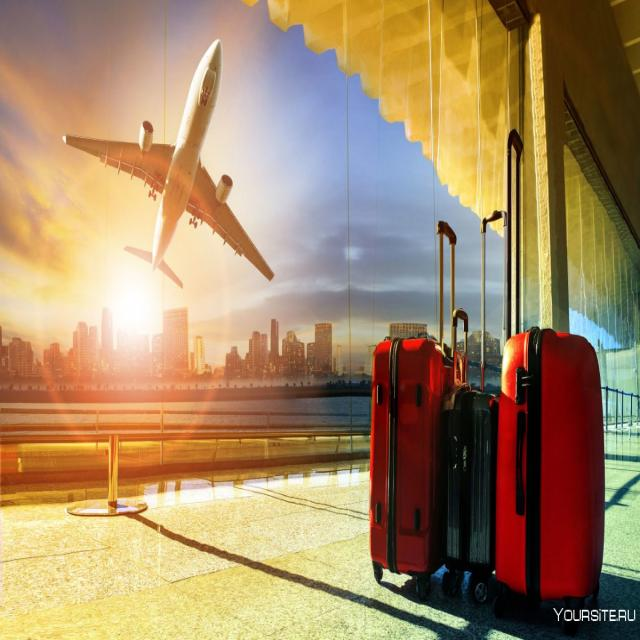plain: (66, 24, 283, 293)
